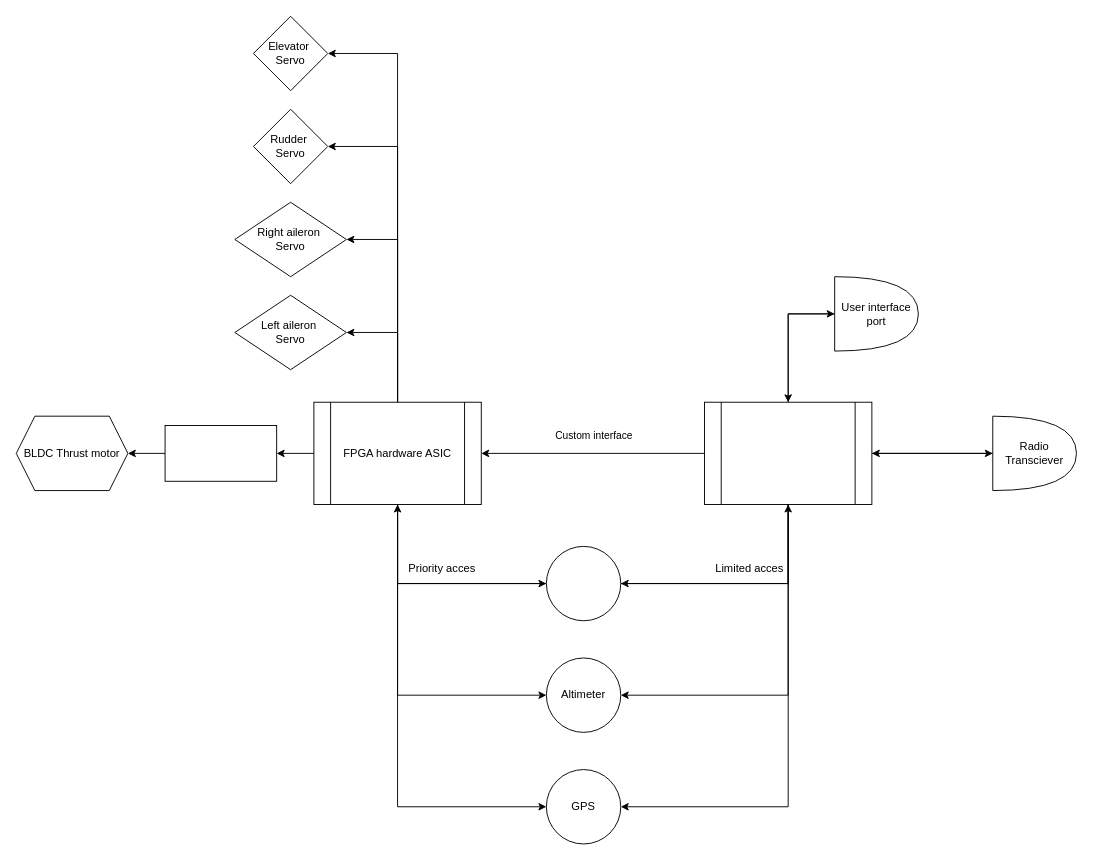
Image size: 1093x860. Some labels were removed from this diagram. Each missing label, with the centre of its shape:
BLDC driver: point 220,453
Gyroscope: point 583,583
Microcontroller: point 788,453
